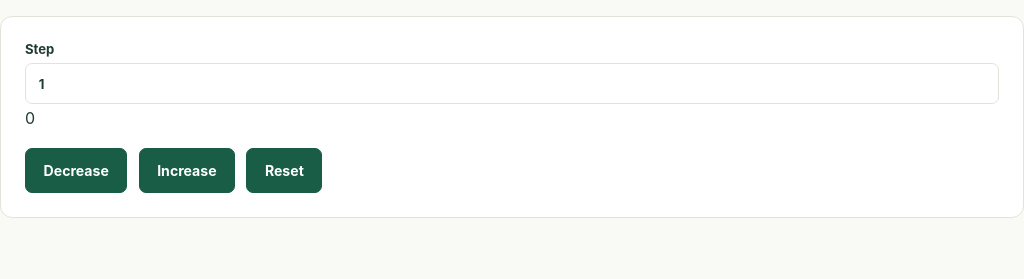
Test case: counter updates with validated step and resets
Replace the text in the number field labelled "Step" with "3" at [512, 84], box [25,63,999,104]
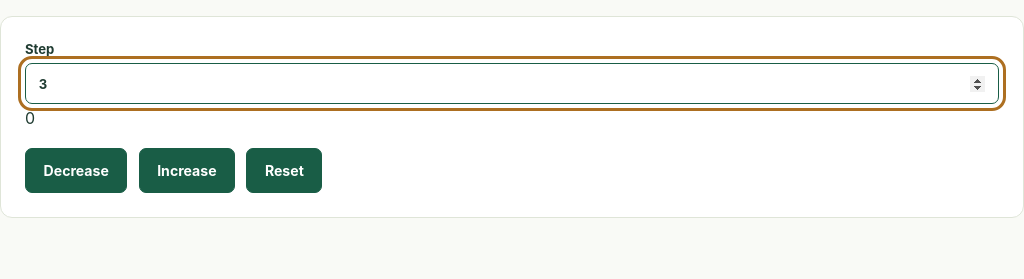
Click the button "Increase" at [187, 170], box [139,148,235,193]
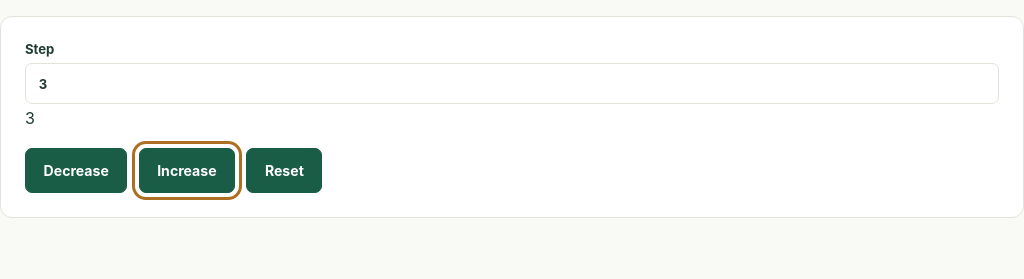
Expected: the text "3" is shown, [25,108,35,128]
Click the button "Reset" at [284, 170], box [246,148,322,193]
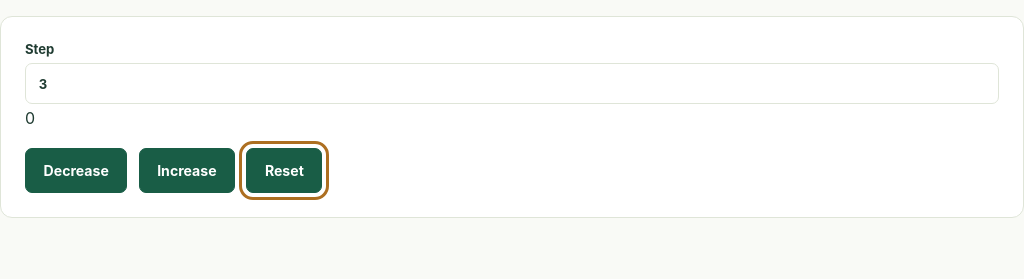
Expected: the text "0" is shown, [25,108,35,128]
Clear the number field labelled "Step" at [512, 84], box [25,63,999,104]
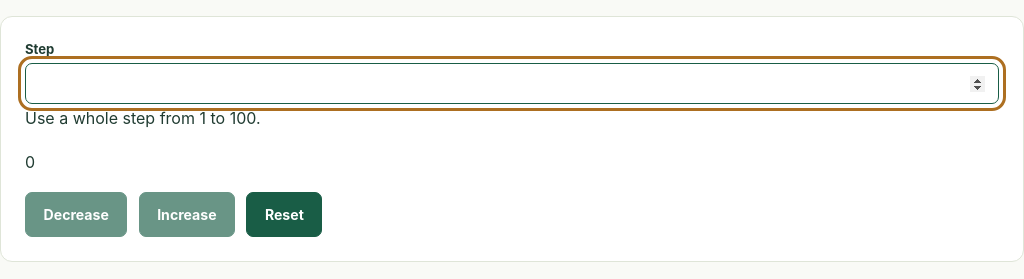
Expected: the button "Increase" is disabled, [139,192,235,237]
